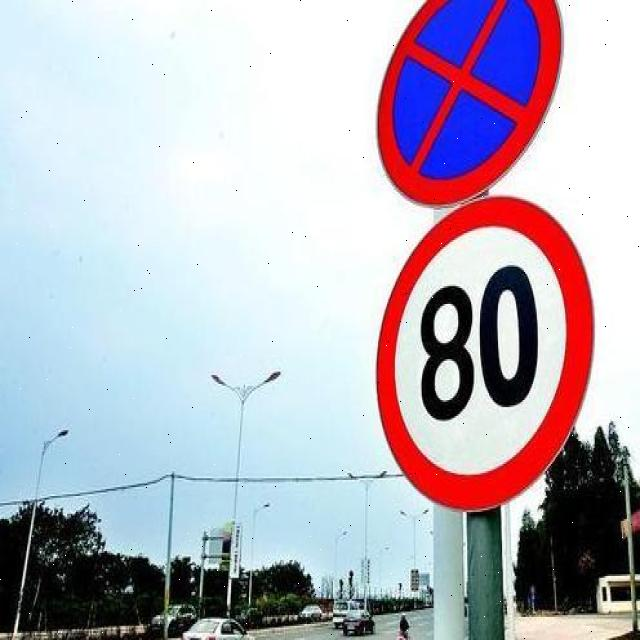speed limit 80: (373, 196, 597, 515)
